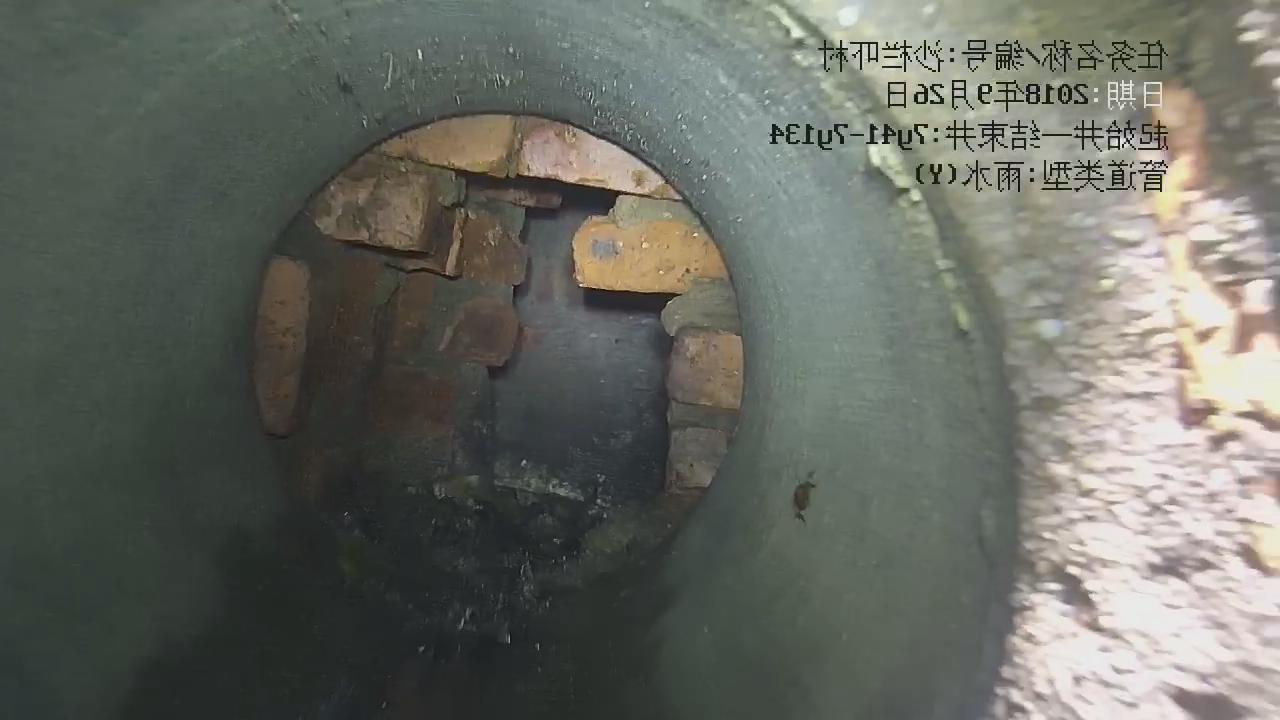CQBG: (254, 114, 744, 619)
